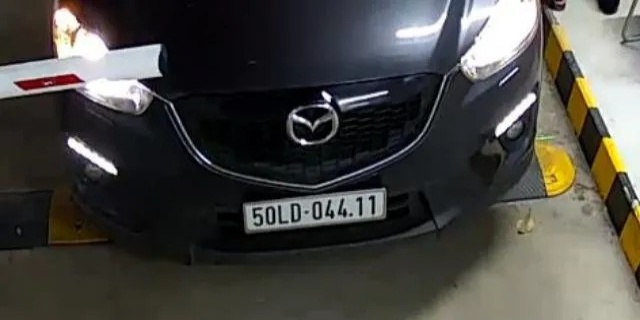bien_so: (246, 193, 385, 230)
